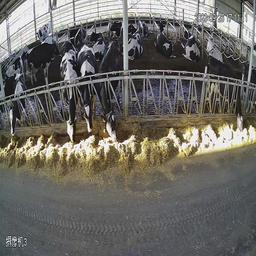cow: (204, 55, 243, 135), (98, 40, 121, 142), (60, 49, 78, 143), (78, 43, 95, 135), (26, 42, 59, 82), (7, 71, 24, 136), (157, 20, 176, 58), (183, 26, 201, 62), (4, 50, 28, 73), (128, 20, 140, 60), (89, 29, 106, 57), (205, 33, 222, 61), (34, 21, 53, 40), (111, 17, 123, 36), (139, 18, 149, 37), (71, 25, 87, 36)
